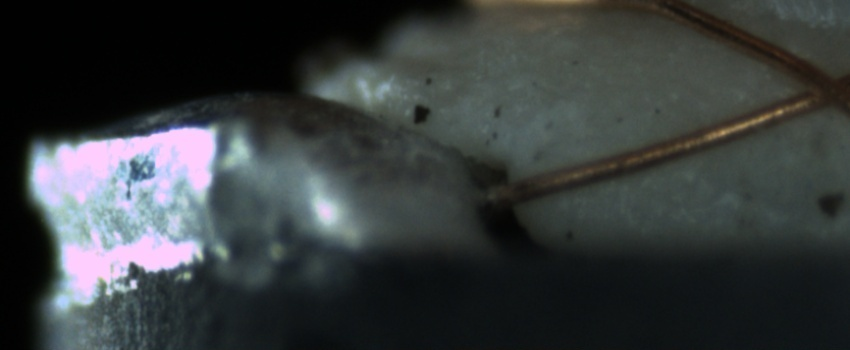CL: (770, 50, 847, 120)
